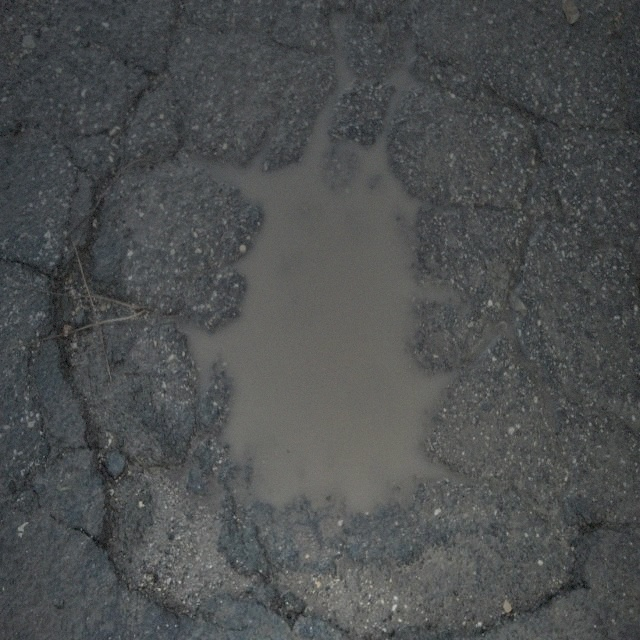pothole: (46, 129, 480, 623)
